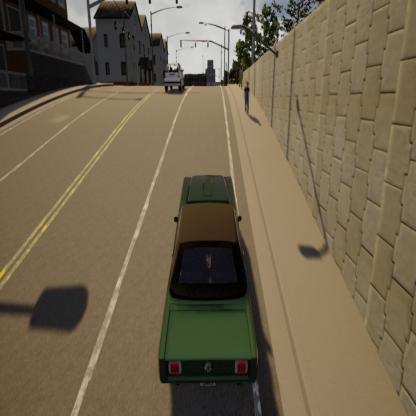Cars: (142, 152, 262, 416), (150, 46, 188, 112)
Pedestrian: (239, 70, 254, 139)
